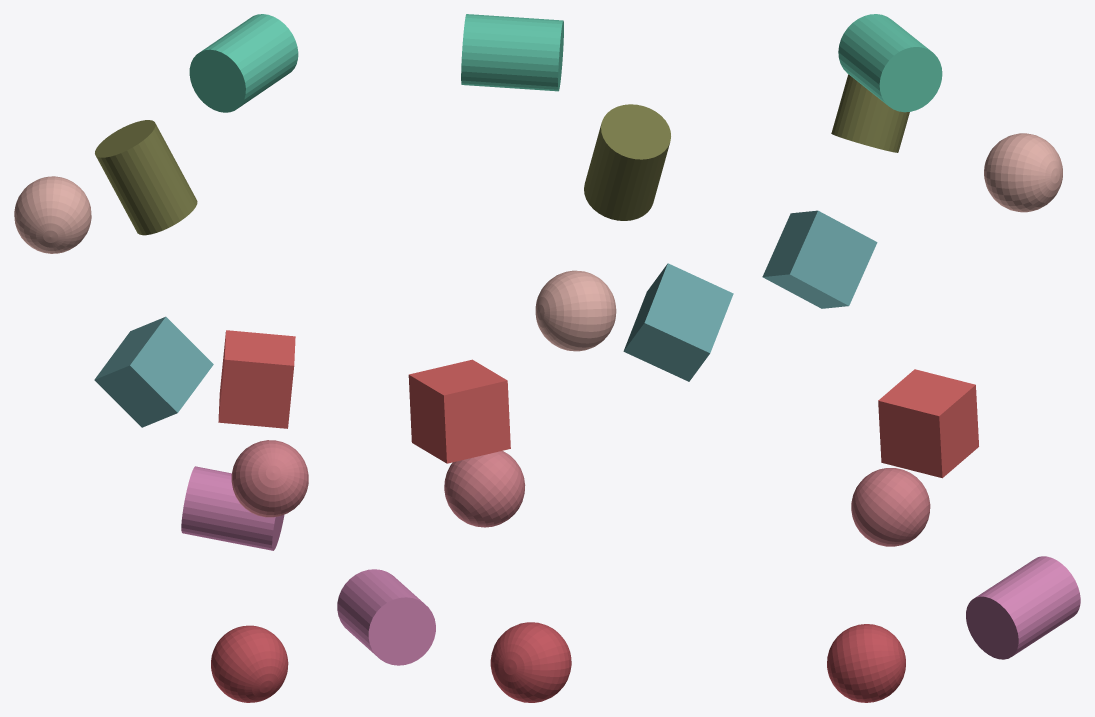
File: drop.glb
3 views of the same model, side by side, from view 1: azimuth 30°, elevation 25°; view 2: azimuth 150°, elevation 25°; view 3: azimuth 270°, elevation 25° (orthographic). The views are drawn at different scales.
Visible parts, largest first — view 1: crate_04, barrel_06, barrel_07, crate_03, barrel_01, ball_00, ball_02, ball_05; view 2: crate_03, crate_04, barrel_06, barrel_07, barrel_01, ball_05, ball_00, ball_02; view 3: crate_03, barrel_01, crate_04, barrel_07, ball_02, ball_05, ball_00, barrel_06.
Part boxes in pixels (box(x1,y1,x2,y2)): crate_04: box(94, 316, 213, 427); barrel_06: box(95, 120, 197, 235); barrel_07: box(189, 14, 298, 112); crate_03: box(218, 330, 295, 428); barrel_01: box(181, 466, 284, 550); ball_00: box(211, 625, 288, 702); ball_02: box(231, 440, 308, 517); ball_05: box(14, 176, 91, 253); crate_03: box(408, 359, 510, 463); crate_04: box(623, 263, 733, 381); barrel_06: box(584, 104, 670, 220); barrel_07: box(461, 14, 563, 91); barrel_01: box(337, 569, 435, 665); ball_05: box(535, 270, 616, 351); ball_00: box(490, 622, 571, 702); ball_02: box(444, 451, 525, 527); crate_03: box(878, 369, 978, 478); barrel_01: box(966, 556, 1080, 659); crate_04: box(762, 210, 877, 308); barrel_07: box(838, 14, 942, 112); ball_02: box(851, 468, 930, 546); ball_05: box(984, 133, 1062, 212); ball_00: box(827, 624, 905, 702); barrel_06: box(831, 74, 909, 152).
Bounding box in the file's own units: 2.04 × 4.68 × 2.01.
